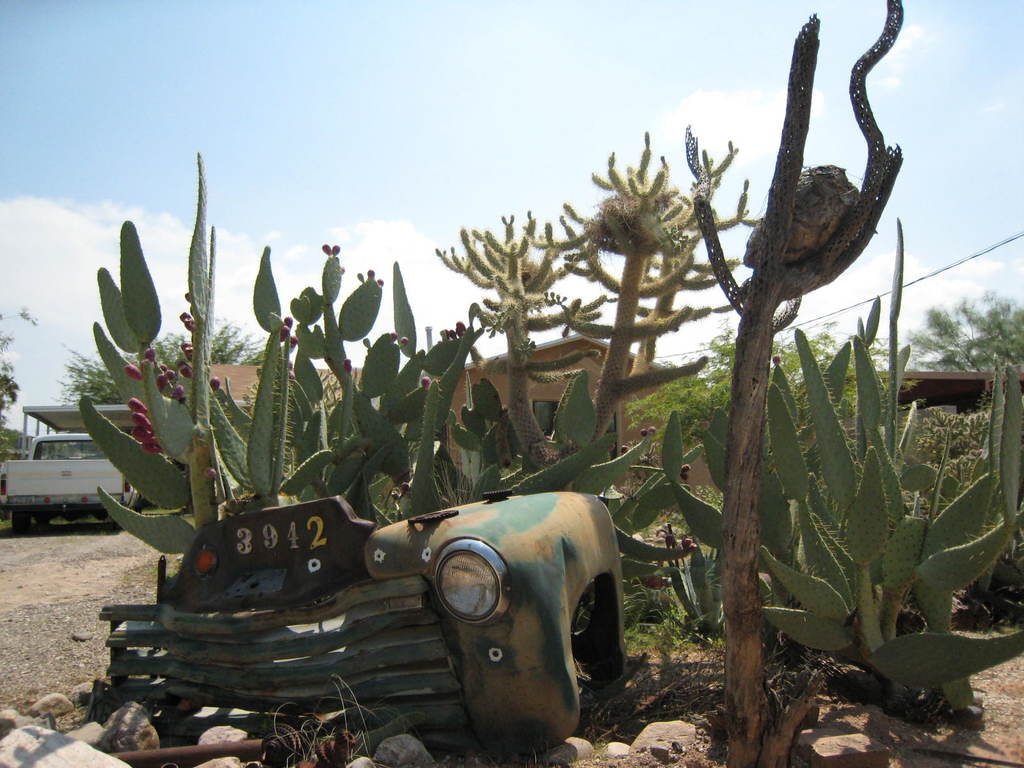car: (72, 473, 612, 759), (0, 415, 147, 528)
